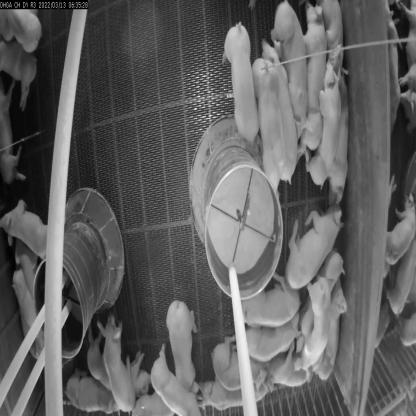Pig: (258, 38, 299, 188), (286, 190, 342, 292), (219, 18, 261, 153), (249, 48, 283, 188), (272, 7, 310, 126), (100, 317, 143, 416), (311, 286, 350, 394), (300, 10, 328, 153), (154, 346, 209, 415), (308, 62, 339, 180), (10, 267, 41, 384), (239, 274, 301, 332), (0, 198, 54, 264), (302, 268, 334, 369), (166, 290, 202, 376), (91, 348, 145, 402), (198, 376, 266, 415), (240, 319, 300, 358), (210, 335, 260, 381), (60, 379, 114, 416), (273, 346, 311, 394), (130, 385, 178, 415)
